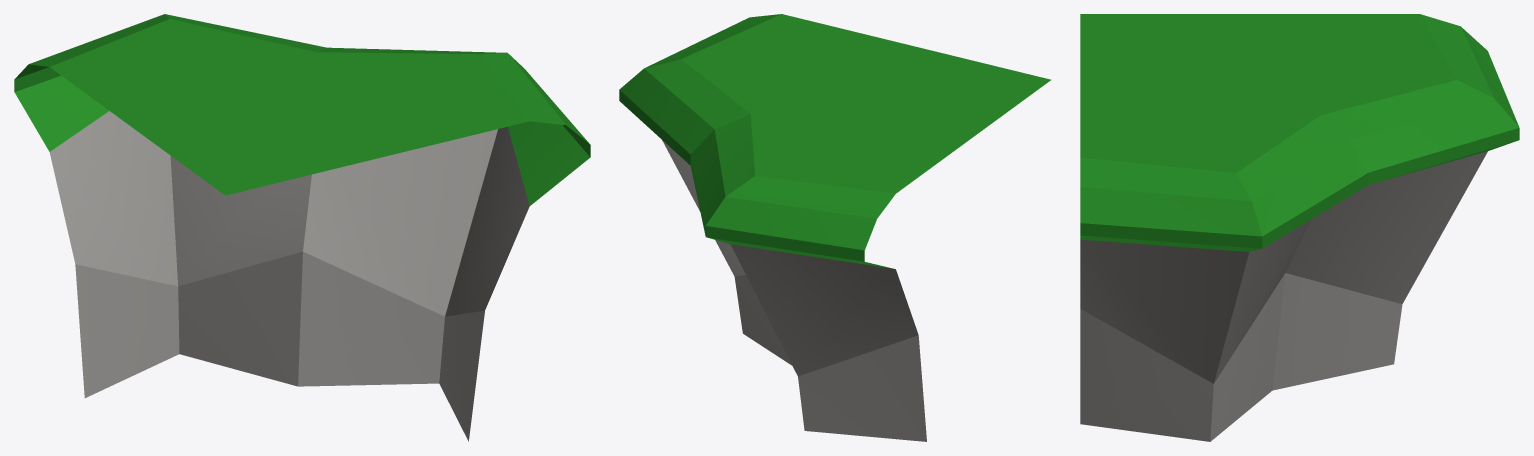
Rendered from Cliff_Terrain_Corner_Outer_2x2_Top.obj.
The picture shows the model from 3 angles, left to right: view 1: azimuth 30°, elevation 25°; view 2: azimuth 150°, elevation 25°; view 3: azimuth 270°, elevation 25°; orthographic projection. The views are drawn at different scales.
Visible parts, largest first — view 1: object1; view 2: object1; view 3: object1.
Part boxes in pixels (bbox=[...]): object1: bbox=[14, 14, 590, 441]; object1: bbox=[619, 14, 1051, 441]; object1: bbox=[1080, 14, 1519, 441].
Size of the model in its own units: 1.62 by 1.2 by 1.62.
